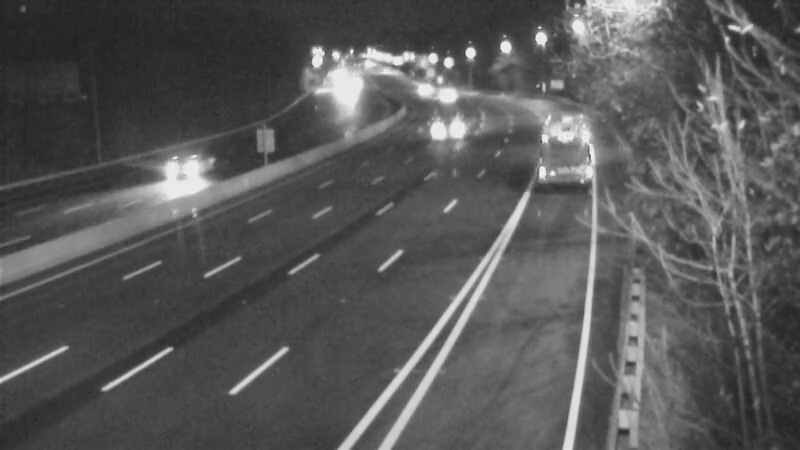vehicle: (146, 132, 226, 212), (397, 64, 447, 114), (419, 68, 469, 118), (533, 110, 583, 160), (426, 106, 476, 156), (315, 64, 365, 114)
